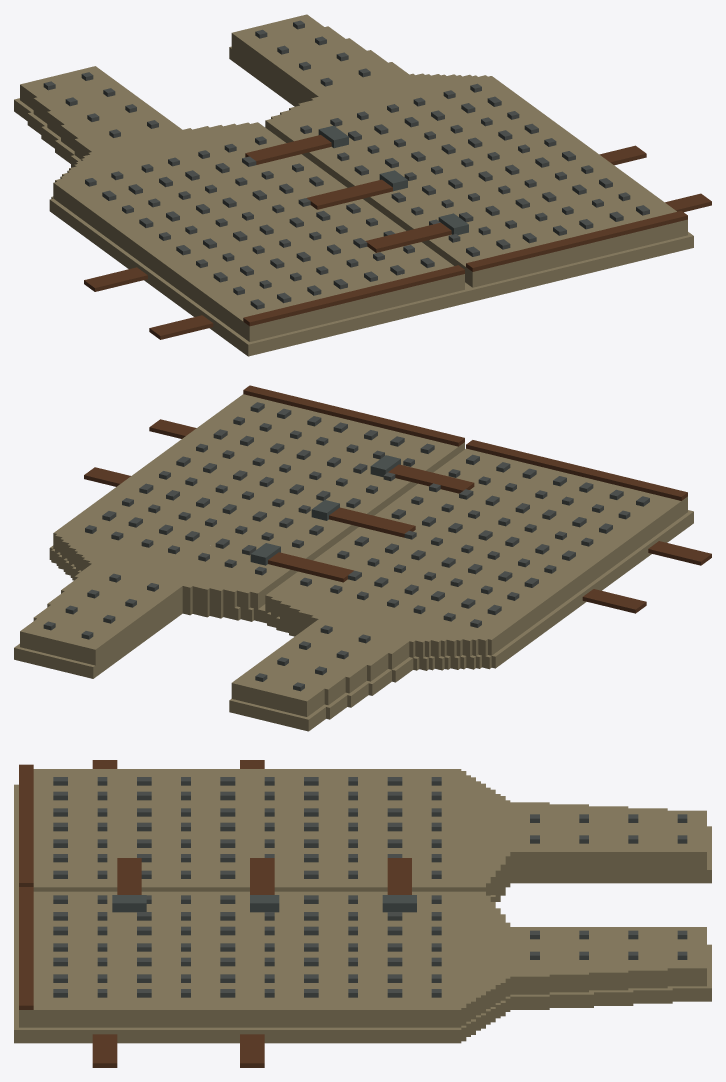
File: armor_ch_brigandine.glb
3 views of the same model, one above another, from view 1: azimuth 30°, elevation 25°; view 2: azimuth 150°, elevation 25°; view 3: azimuth 270°, elevation 25° (orthographic). The views are drawn at different scales.
Visible parts, largest first — view 1: armor_ch_brigandine:compound; view 2: armor_ch_brigandine:compound; view 3: armor_ch_brigandine:compound.
Part boxes in pixels (left/top/right/bottom): armor_ch_brigandine:compound: left=14, top=14, right=711, bottom=356; armor_ch_brigandine:compound: left=14, top=385, right=711, bottom=731; armor_ch_brigandine:compound: left=14, top=760, right=711, bottom=1067.
Size of the model in its own units: 0.584 by 0.036 by 0.568.
